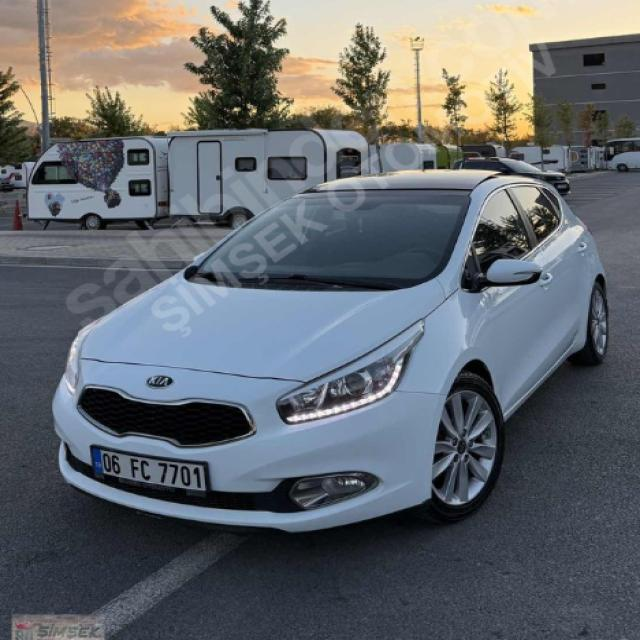kia: (141, 368, 175, 394)
